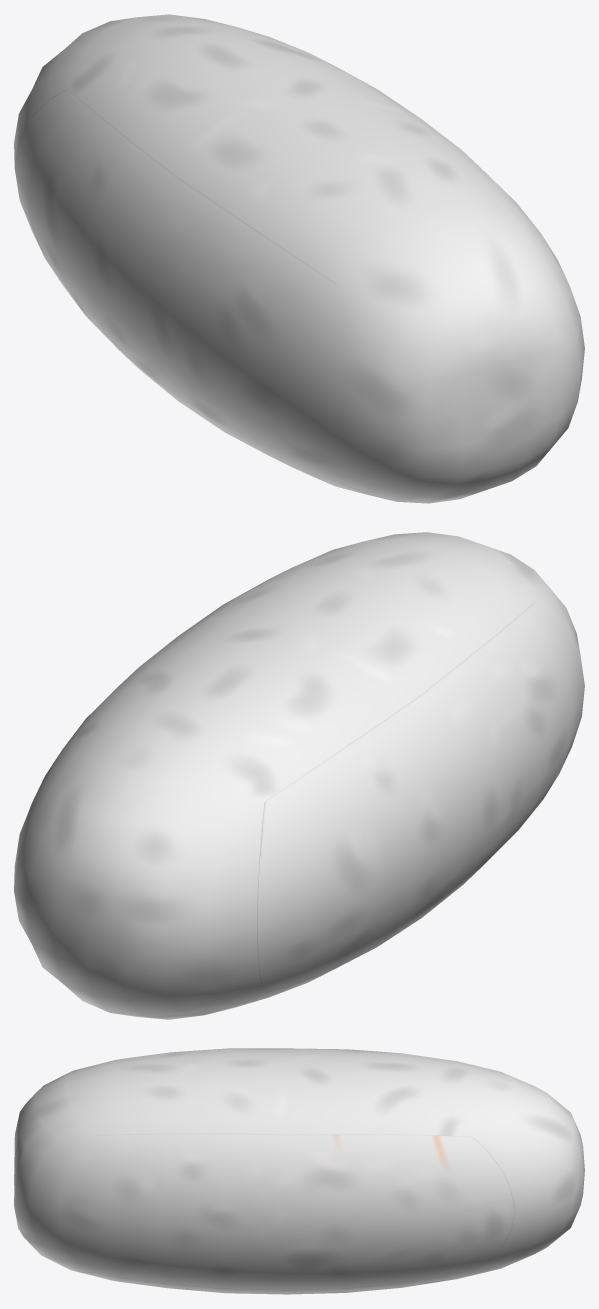
File: syari.fbx
The picture shows the model from 3 angles, top to bottom: view 1: azimuth 30°, elevation 25°; view 2: azimuth 150°, elevation 25°; view 3: azimuth 270°, elevation 25°; orthographic projection. The views are drawn at different scales.
Visible parts, largest first — view 1: Shari_Samon; view 2: Shari_Samon; view 3: Shari_Samon.
Part boxes in pixels (left/top/right/bottom): Shari_Samon: left=14, top=14, right=584, bottom=503; Shari_Samon: left=14, top=532, right=584, bottom=1019; Shari_Samon: left=14, top=1048, right=584, bottom=1294.
Bounding box in the file's own units: 0.8498 × 0.7487 × 1.81.
Materials: 1 (1 with a texture image).
